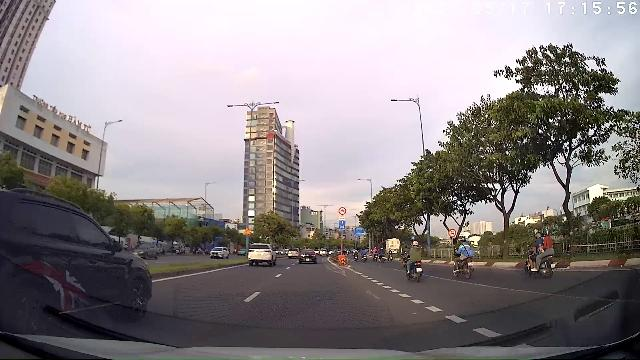103a-cam-oto: (448, 228, 456, 237)
